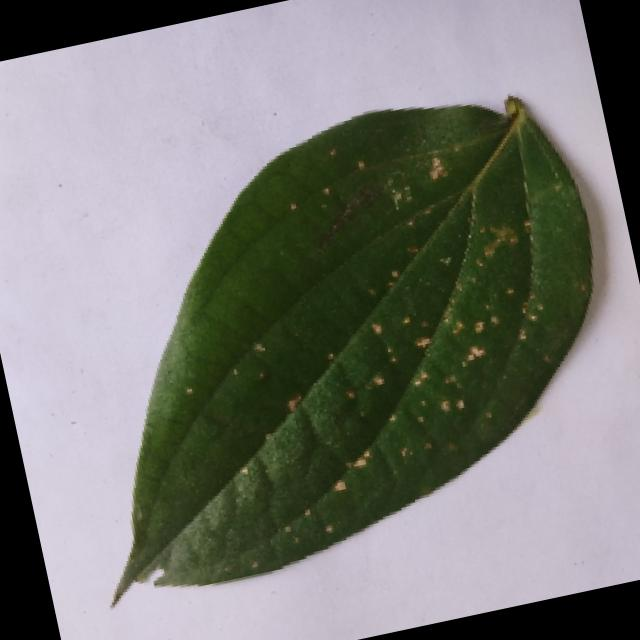pollu-disease: (17, 67, 640, 615)
